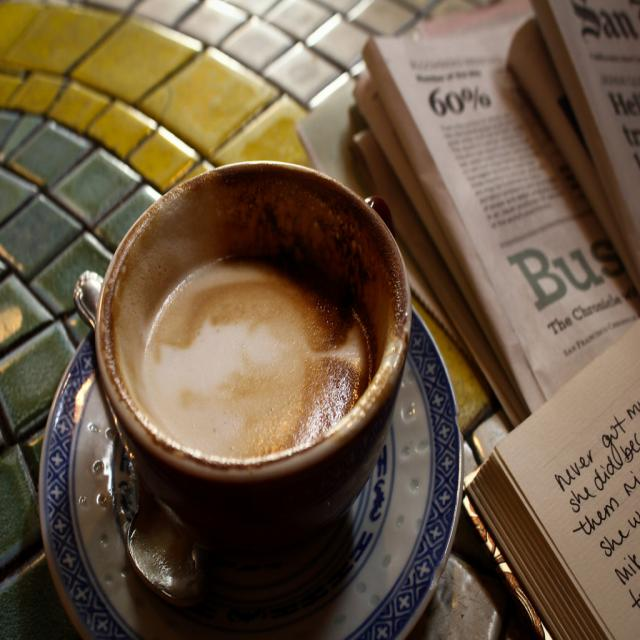Coffee: (85, 162, 405, 576)
Tea: (137, 257, 372, 456)
